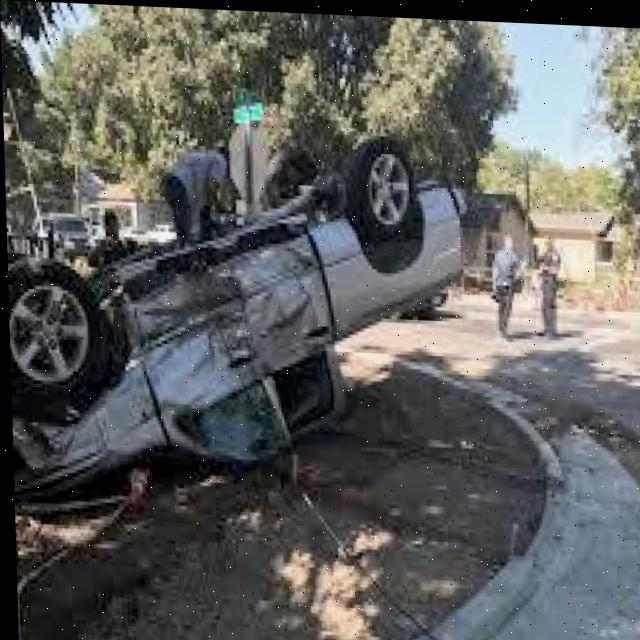multiple_accident: (14, 19, 508, 630)
